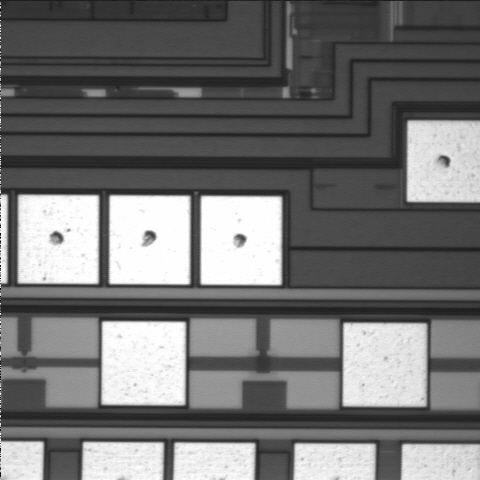pad: (109, 195, 190, 285), (18, 195, 99, 284), (201, 196, 282, 285), (102, 321, 186, 405), (343, 323, 427, 406)
